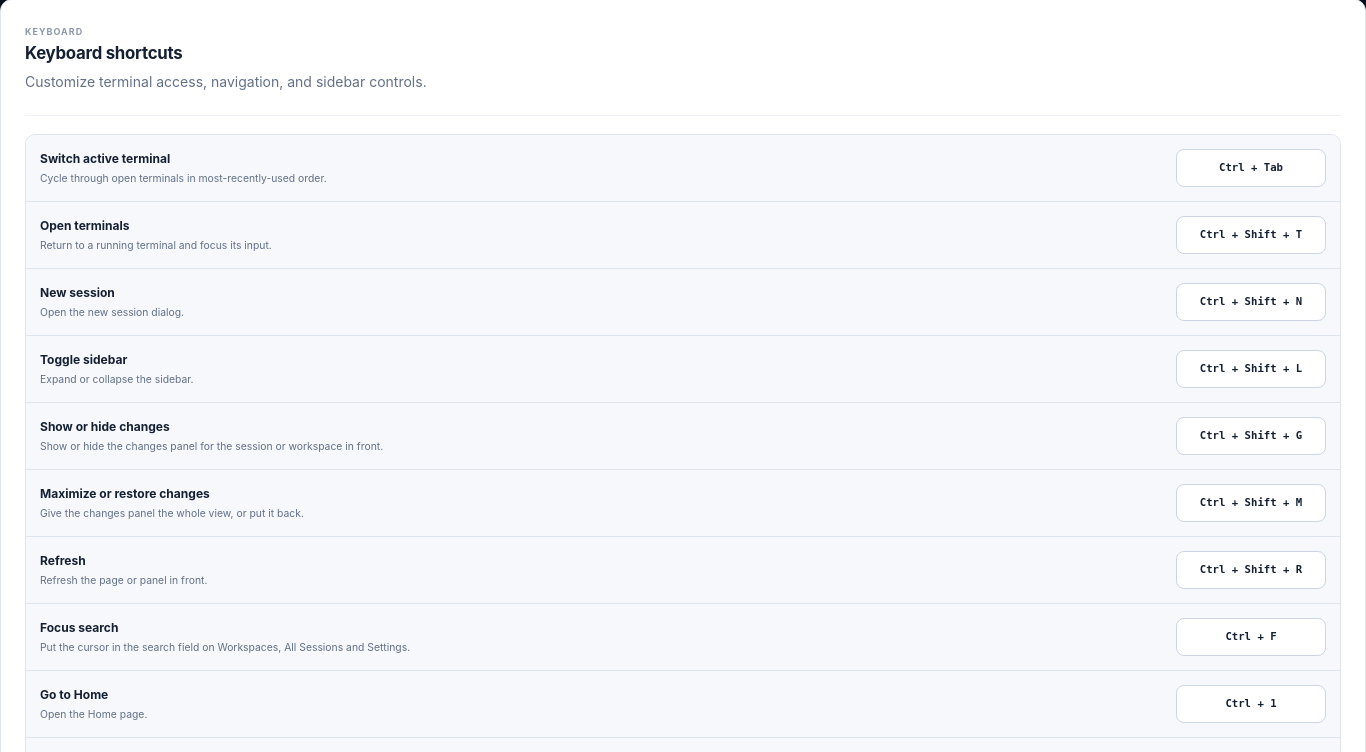
Test case: KeyboardShortcutsPanel › loads, records, and saves the terminal switcher shortcut
Click the button with aria-label "Record terminal switcher shortcut" at (1251, 168), box [1176,149,1326,187]
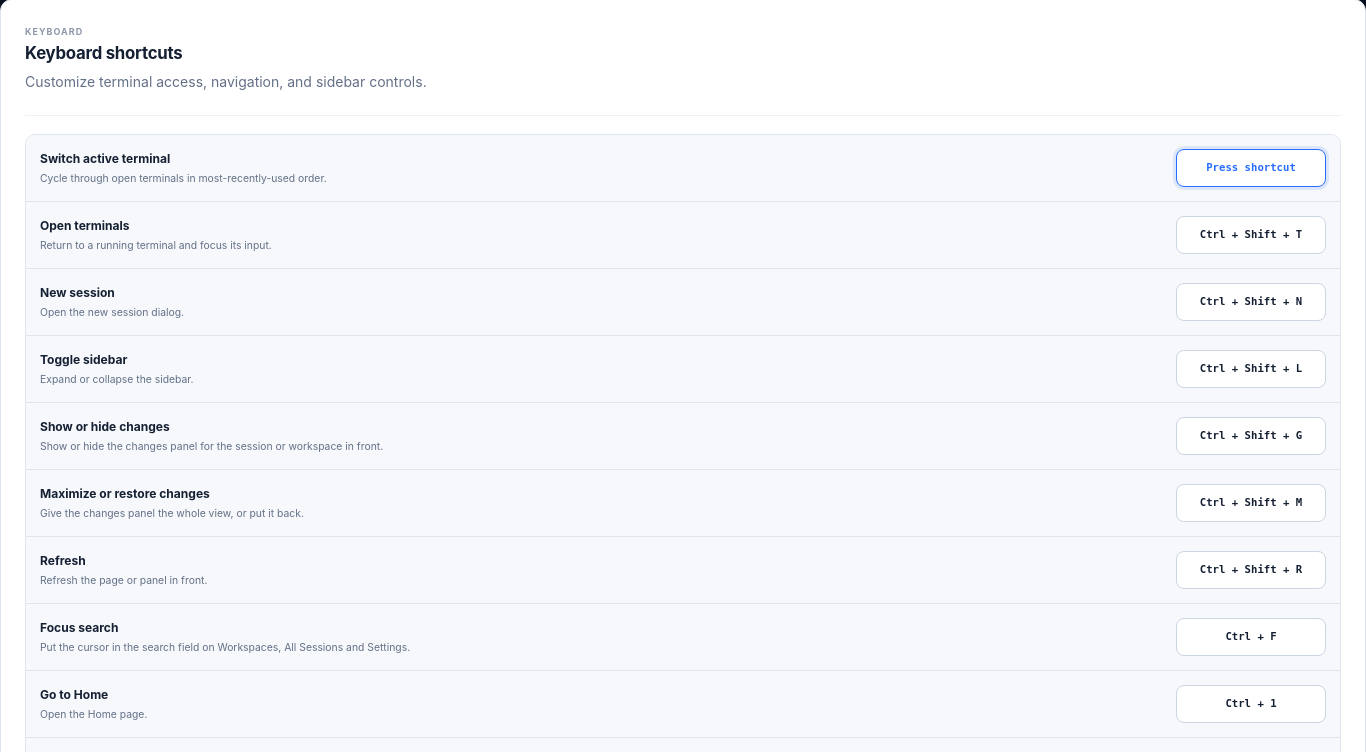
Expected: the button with aria-label "Record terminal switcher shortcut" reads "Press shortcut"
Press K in the button with aria-label "Record terminal switcher shortcut", box [1176,149,1326,187]
(page scrolled)
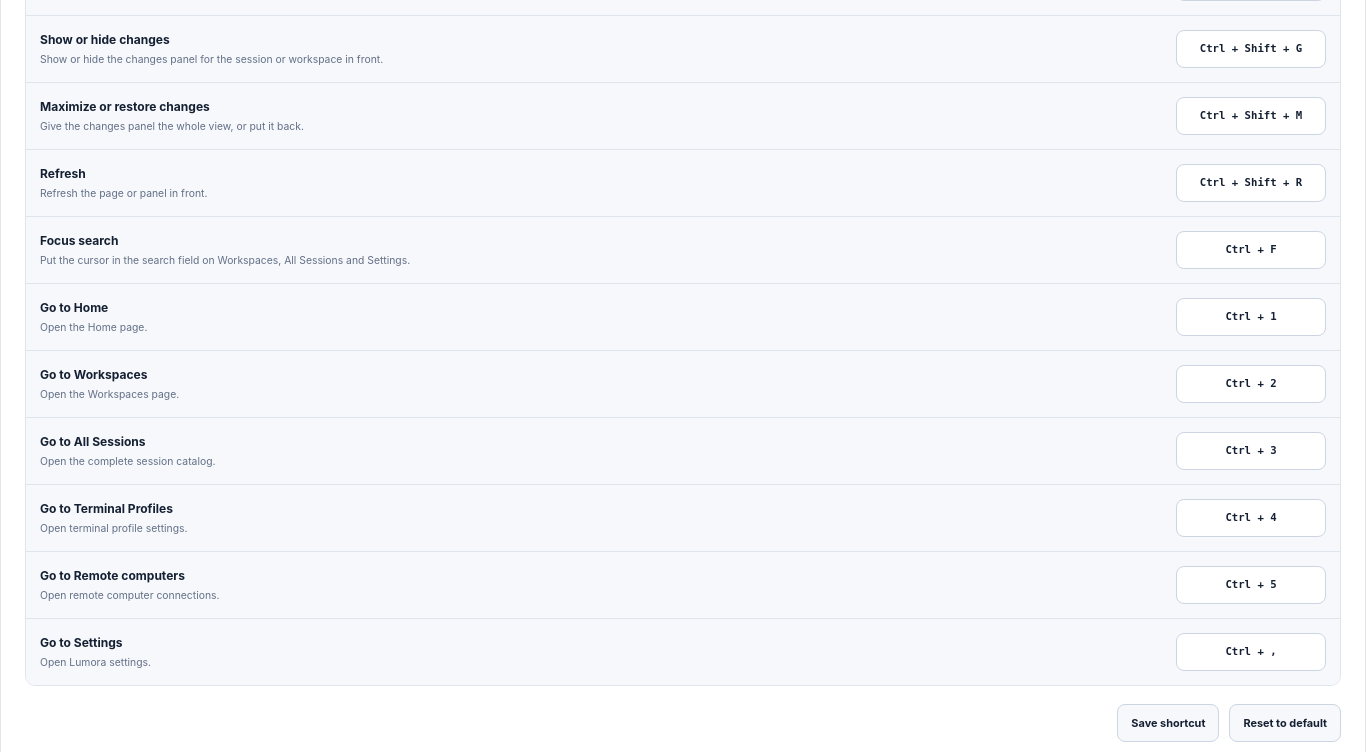
Click the button "Save shortcut" at (1168, 723), box [1117,704,1219,742]
(page scrolled)
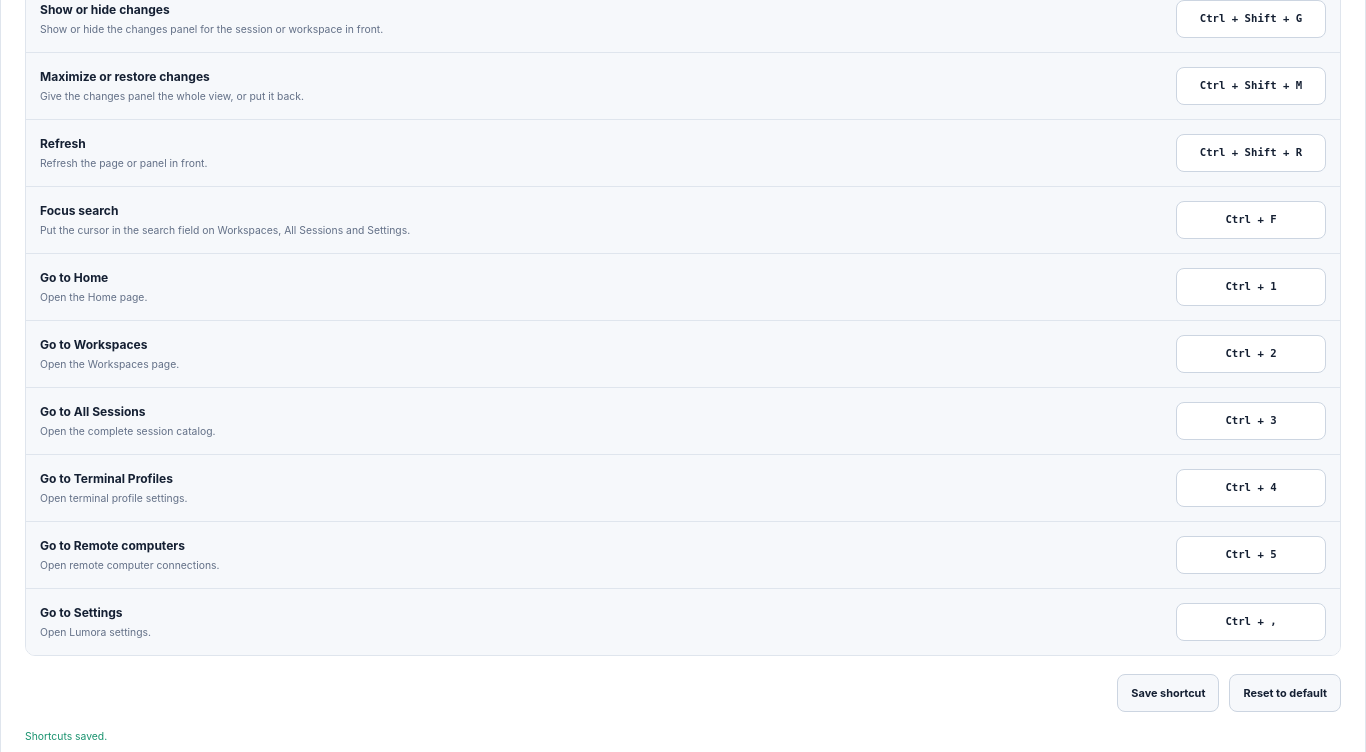
Expected: the message shows "Shortcuts saved", [25,730,107,742]
